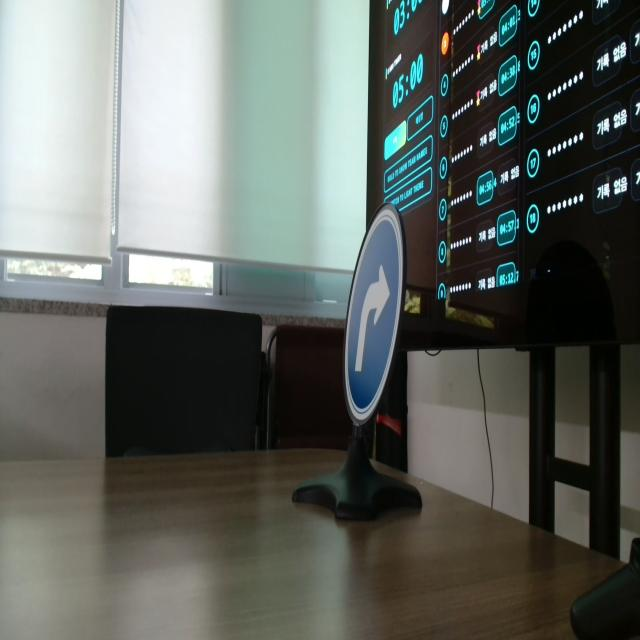right_dierection: (325, 177, 431, 450)
